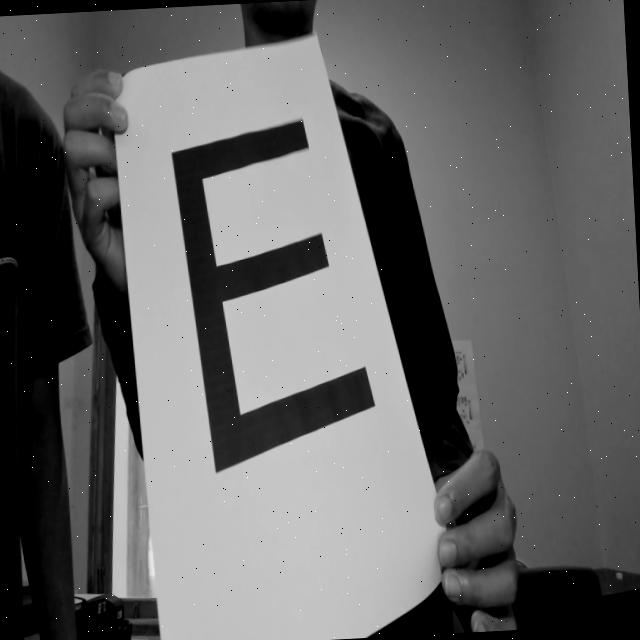e: (154, 99, 390, 484)
